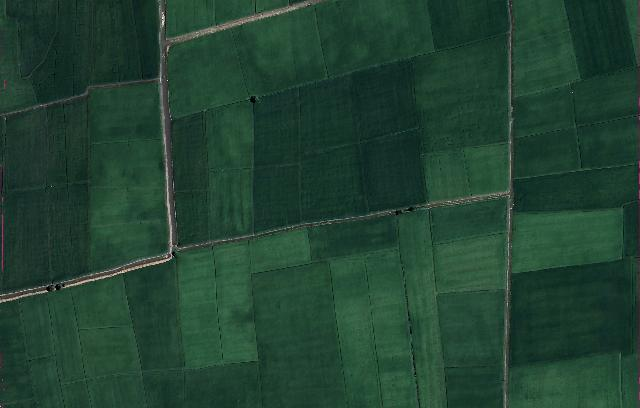EmptyFarms: (207, 107, 253, 167)
Farms: (249, 260, 349, 408), (413, 33, 511, 154), (398, 209, 446, 408), (316, 1, 436, 77), (235, 5, 330, 99), (365, 250, 420, 407), (329, 254, 383, 407), (441, 291, 506, 407), (167, 28, 249, 119), (511, 208, 623, 274), (121, 258, 185, 372), (348, 61, 419, 143), (176, 247, 223, 368), (360, 129, 428, 212), (215, 242, 259, 365), (301, 145, 370, 223), (296, 75, 358, 160), (433, 230, 508, 293), (88, 82, 164, 143), (308, 212, 399, 262), (430, 0, 513, 49), (46, 286, 86, 386), (574, 67, 639, 125), (431, 197, 510, 244), (513, 128, 584, 180), (580, 112, 640, 172), (79, 325, 142, 381), (185, 363, 263, 408), (253, 164, 302, 235), (512, 85, 576, 137), (72, 276, 134, 328), (252, 225, 313, 275), (209, 107, 254, 174), (174, 111, 208, 194), (19, 292, 55, 362), (423, 149, 469, 203), (464, 142, 509, 196), (87, 372, 147, 408), (176, 193, 211, 246), (31, 355, 65, 408), (143, 373, 185, 408), (61, 381, 91, 408)
